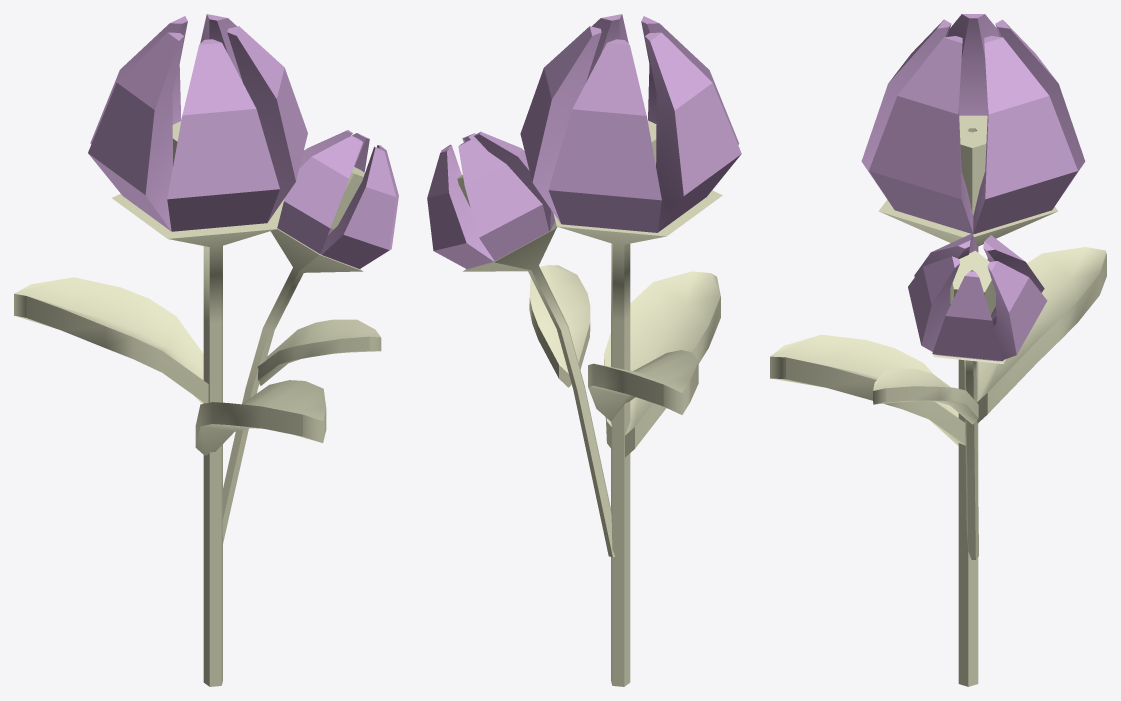
Rendered from Flower_Tulpe_01.fbx.
3 renders of one model, left to right at view 1: azimuth 30°, elevation 25°; view 2: azimuth 150°, elevation 25°; view 3: azimuth 270°, elevation 25°, orthographic.
Visible parts, largest first — view 1: pPipe2, pPipe9, pCube2, pPipe3, pCube1, pPipe10, pCube5, pPipe11; view 2: pPipe2, pPipe9, pPipe3, pCube1, pPipe10, pCube2, pCube5; view 3: pPipe2, pPipe9, pCube2, pCube1, pPipe3, pCube5, pPipe10, pPipe4, pPipe11.
Boxes of the visible parts, x1,y1,x2,y2 form: pPipe2: [88, 14, 307, 231]; pPipe9: [277, 130, 398, 268]; pCube2: [14, 277, 208, 403]; pPipe3: [112, 194, 284, 686]; pCube1: [195, 380, 326, 455]; pPipe10: [222, 228, 363, 543]; pCube5: [257, 319, 381, 385]; pPipe11: [330, 167, 364, 229]; pPipe2: [520, 14, 741, 232]; pPipe9: [427, 131, 555, 268]; pPipe3: [553, 190, 722, 686]; pCube1: [604, 271, 720, 457]; pPipe10: [463, 221, 614, 557]; pCube2: [588, 350, 698, 421]; pCube5: [529, 265, 590, 387]; pPipe2: [861, 14, 1085, 234]; pPipe9: [908, 233, 1047, 361]; pCube2: [977, 247, 1106, 423]; pCube1: [770, 334, 965, 445]; pPipe3: [879, 200, 1057, 686]; pCube5: [873, 368, 978, 424]; pPipe10: [933, 354, 1005, 559]; pPipe4: [959, 115, 987, 215]; pPipe11: [950, 250, 995, 314].
Bounding box in the file's own units: 41.92 × 84.74 × 39.79.
